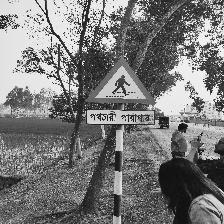Pedestrian-crossing: (84, 57, 155, 125)
